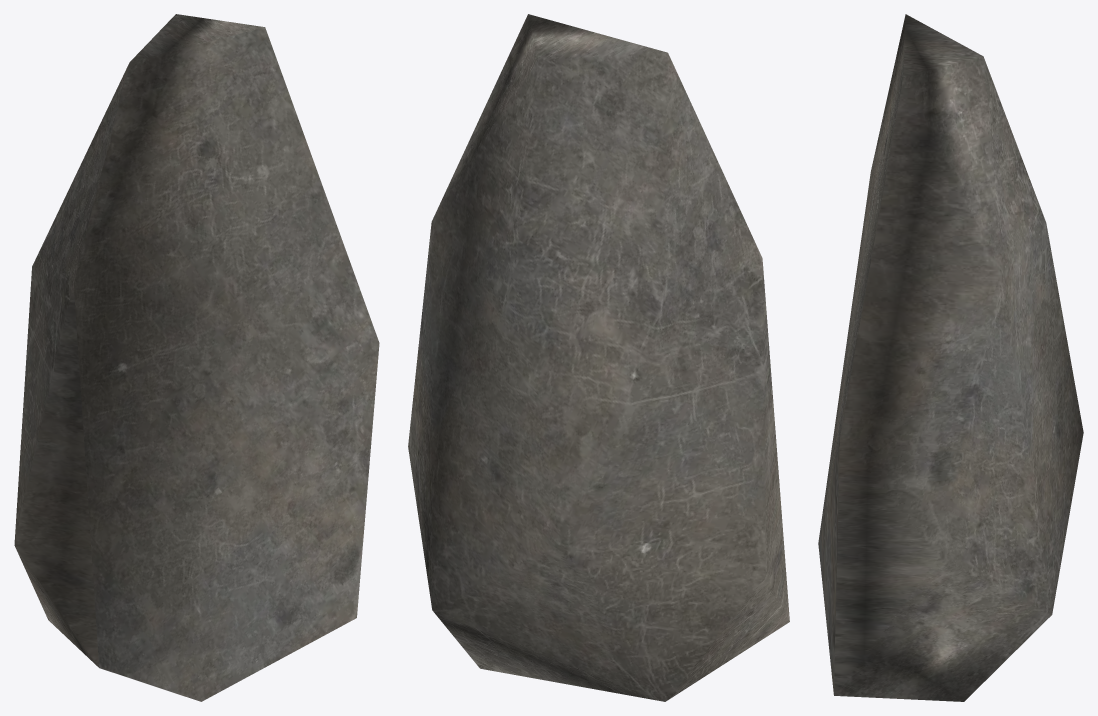
Rendered from prop_menhir_01.glb.
3 views of the same model, side by side, from view 1: azimuth 30°, elevation 25°; view 2: azimuth 150°, elevation 25°; view 3: azimuth 270°, elevation 25° (orthographic). The views are drawn at different scales.
Visible parts, largest first — view 1: prop_menhir_01_collider; view 2: prop_menhir_01_collider; view 3: prop_menhir_01_collider.
Part boxes in pixels (<box>): prop_menhir_01_collider: <box>14,14,379,701</box>; prop_menhir_01_collider: <box>408,14,789,701</box>; prop_menhir_01_collider: <box>818,14,1083,701</box>.
Bounding box in the file's own units: 1.99 × 3.55 × 1.34.
Materials: 1 (1 with a texture image).
